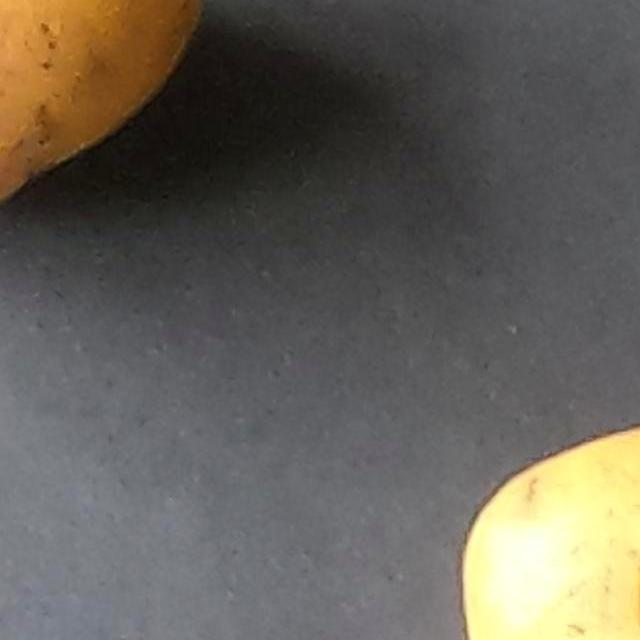potato: (0, 0, 312, 286), (412, 381, 640, 640)
